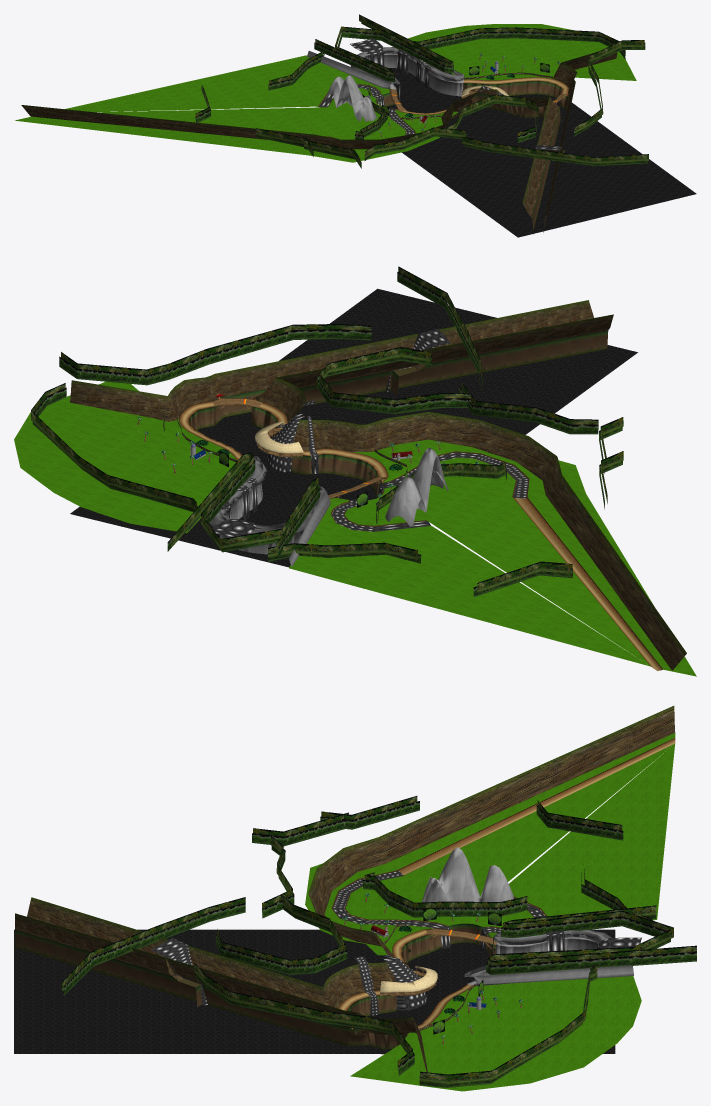
The picture shows the model from 3 angles, top to bottom: view 1: azimuth 30°, elevation 25°; view 2: azimuth 150°, elevation 25°; view 3: azimuth 270°, elevation 25°; orthographic projection. The views are drawn at different scales.
Parts seen in each view (by area): view 1: GALVANARYFALLS-SKP--Wood.002, GALVANARYFALLS-SKP--Water, GALVANARYFALLS-SKP--TreeWalls, GALVANARYFALLS-SKP--Wall1, GALVANARYFALLS-SKP--Wood, GALVANARYFALLS-SKP--Wood.003, GALVANARYFALLS-SKP--Waterfall; view 2: GALVANARYFALLS-SKP--Wood.002, GALVANARYFALLS-SKP--Wall1, GALVANARYFALLS-SKP--TreeWalls, GALVANARYFALLS-SKP--Water, GALVANARYFALLS-SKP--Wood.003, GALVANARYFALLS-SKP--Waterfall, GALVANARYFALLS-SKP--Wood, GALVANARYFALLS-SKP--Wood.001, GALVANARYFALLS-SKP--HutTop; view 3: GALVANARYFALLS-SKP--Wood.002, GALVANARYFALLS-SKP--Water, GALVANARYFALLS-SKP--TreeWalls, GALVANARYFALLS-SKP--Wall1, GALVANARYFALLS-SKP--Wood.003, GALVANARYFALLS-SKP--Wood, GALVANARYFALLS-SKP--Waterfall, GALVANARYFALLS-SKP--HutTop, GALVANARYFALLS-SKP--Wood.001.
Part boxes in pixels (bbox=[...]): GALVANARYFALLS-SKP--Wood.002: bbox=[15, 24, 636, 162]; GALVANARYFALLS-SKP--Water: bbox=[387, 68, 696, 237]; GALVANARYFALLS-SKP--TreeWalls: bbox=[195, 14, 648, 168]; GALVANARYFALLS-SKP--Wall1: bbox=[21, 51, 617, 217]; GALVANARYFALLS-SKP--Wood: bbox=[307, 47, 464, 121]; GALVANARYFALLS-SKP--Wood.003: bbox=[318, 77, 569, 234]; GALVANARYFALLS-SKP--Waterfall: bbox=[317, 38, 561, 162]; GALVANARYFALLS-SKP--Wood.002: bbox=[14, 381, 696, 676]; GALVANARYFALLS-SKP--Wall1: bbox=[69, 300, 686, 670]; GALVANARYFALLS-SKP--TreeWalls: bbox=[31, 266, 623, 596]; GALVANARYFALLS-SKP--Water: bbox=[70, 288, 637, 567]; GALVANARYFALLS-SKP--Wood.003: bbox=[179, 330, 663, 670]; GALVANARYFALLS-SKP--Waterfall: bbox=[212, 329, 528, 537]; GALVANARYFALLS-SKP--Wood: bbox=[187, 448, 448, 566]; GALVANARYFALLS-SKP--Wood.001: bbox=[213, 398, 386, 498]; GALVANARYFALLS-SKP--HutTop: bbox=[215, 393, 303, 453]; GALVANARYFALLS-SKP--Wood.002: bbox=[305, 732, 675, 1091]; GALVANARYFALLS-SKP--Water: bbox=[14, 929, 615, 1053]; GALVANARYFALLS-SKP--TreeWalls: bbox=[61, 796, 696, 1087]; GALVANARYFALLS-SKP--Wall1: bbox=[15, 706, 674, 1072]; GALVANARYFALLS-SKP--Wood.003: bbox=[15, 738, 675, 1054]; GALVANARYFALLS-SKP--Wood: bbox=[422, 847, 652, 985]; GALVANARYFALLS-SKP--Waterfall: bbox=[151, 870, 641, 1015]; GALVANARYFALLS-SKP--HutTop: bbox=[351, 966, 437, 1029]; GALVANARYFALLS-SKP--Wood.001: bbox=[354, 928, 497, 1034].
Size of the model in its own units: 238052 by 24252 by 185021.
Materials: 22 (22 with a texture image).
